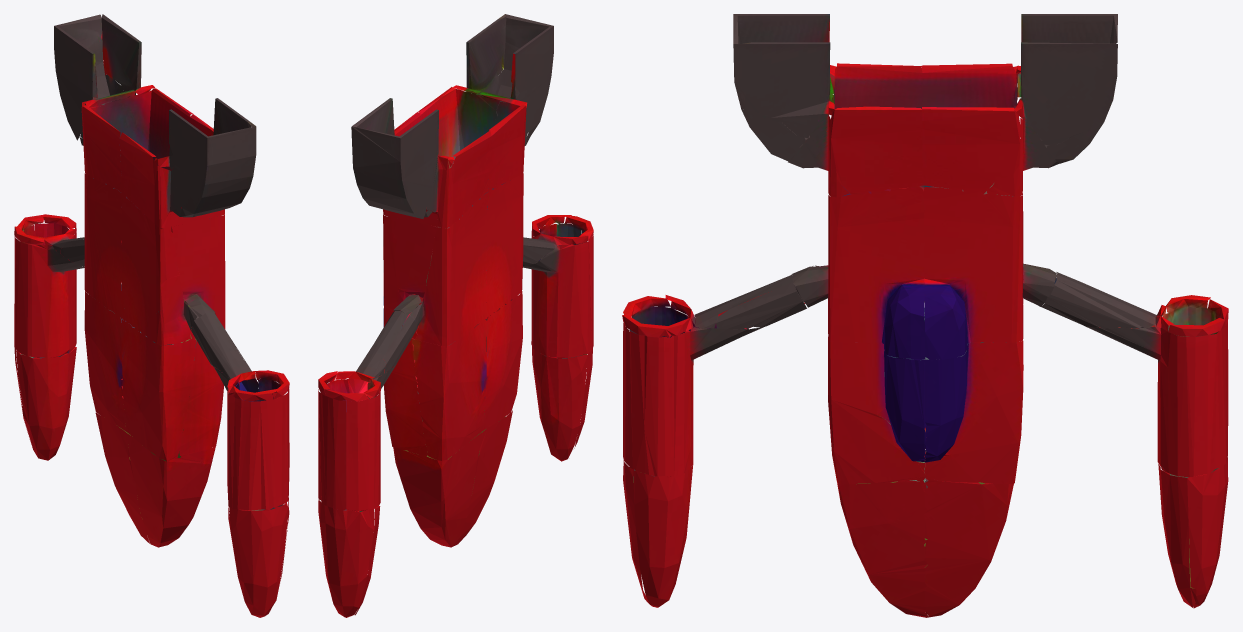
The model's file is enemy_space_ship_1.glb.
The picture shows the model from 3 angles, left to right: view 1: azimuth 30°, elevation 25°; view 2: azimuth 150°, elevation 25°; view 3: azimuth 270°, elevation 25°; orthographic projection. The views are drawn at different scales.
Visible parts, largest first — view 1: tripo_node_7b656127-4e22-4a30-a7df-b630d8bce571; view 2: tripo_node_7b656127-4e22-4a30-a7df-b630d8bce571; view 3: tripo_node_7b656127-4e22-4a30-a7df-b630d8bce571.
Boxes of the visible parts, x1,y1,x2,y2 form: tripo_node_7b656127-4e22-4a30-a7df-b630d8bce571: [14, 14, 289, 617]; tripo_node_7b656127-4e22-4a30-a7df-b630d8bce571: [318, 14, 593, 617]; tripo_node_7b656127-4e22-4a30-a7df-b630d8bce571: [622, 14, 1228, 617].
Size of the model in its own units: 0.2528 by 1 by 0.9358.
1 material, 1 textured.
